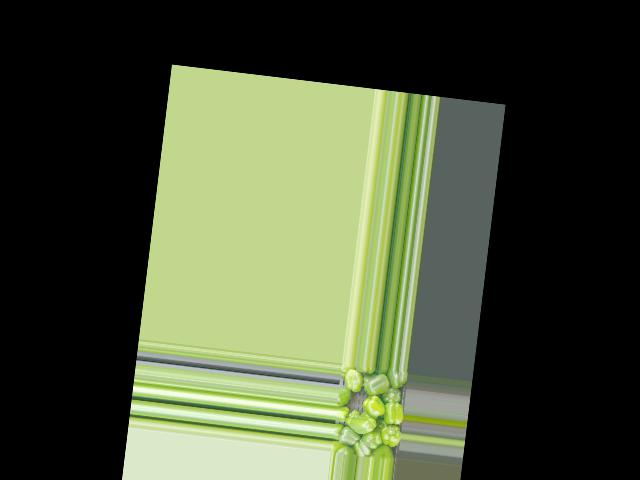bell_pepper: (369, 443, 390, 460)
